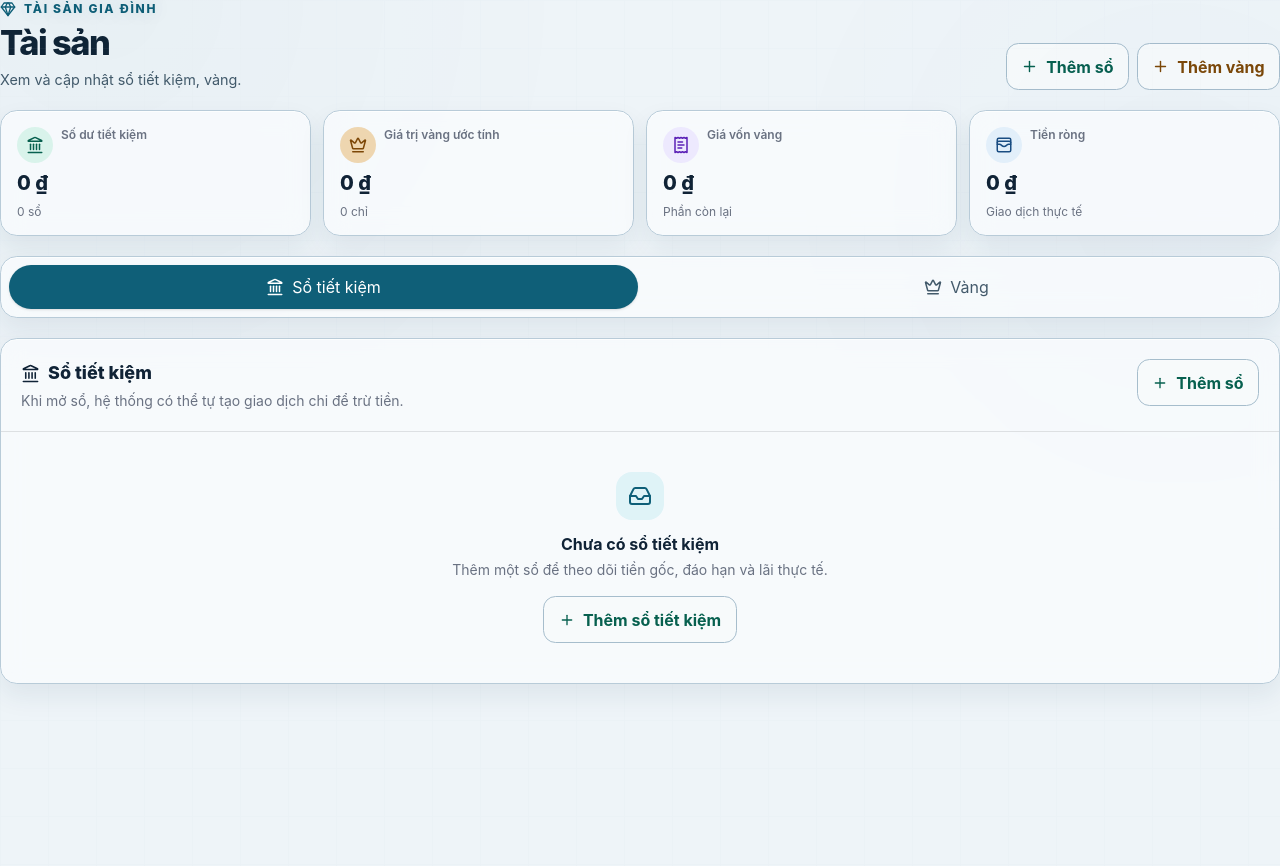
Scenario: Tài sản › cho phép nhập lãi suất thập phân trên bàn phím điện thoại
The image size is (1280, 866).
Click the button "Thêm sổ" in the row of "Xem và cập nhật sổ tiết kiệm, vàng.": click(1067, 67) [1006,44,1129,90]
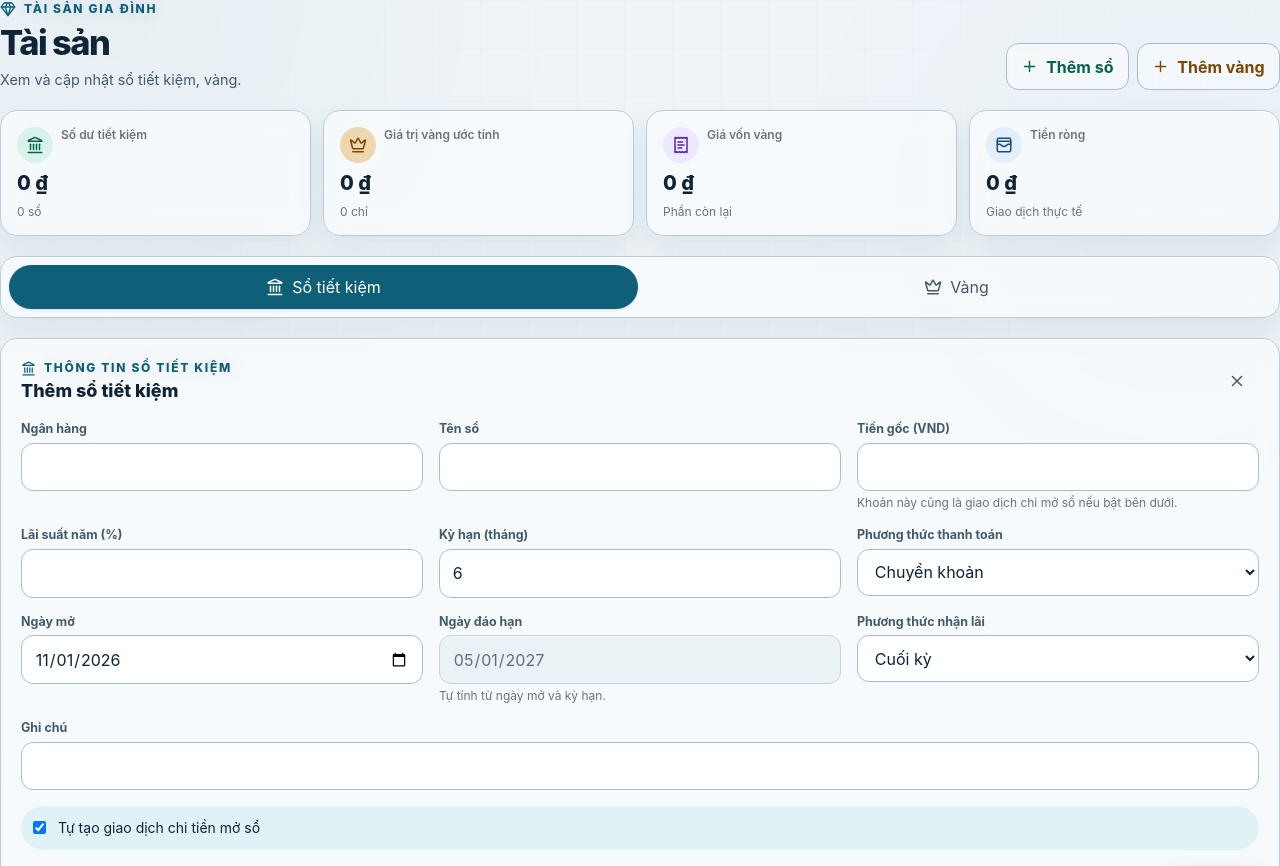
In the field labelled "Lãi suất năm (%)": (222, 573) [21,549,423,598], type "8,2"
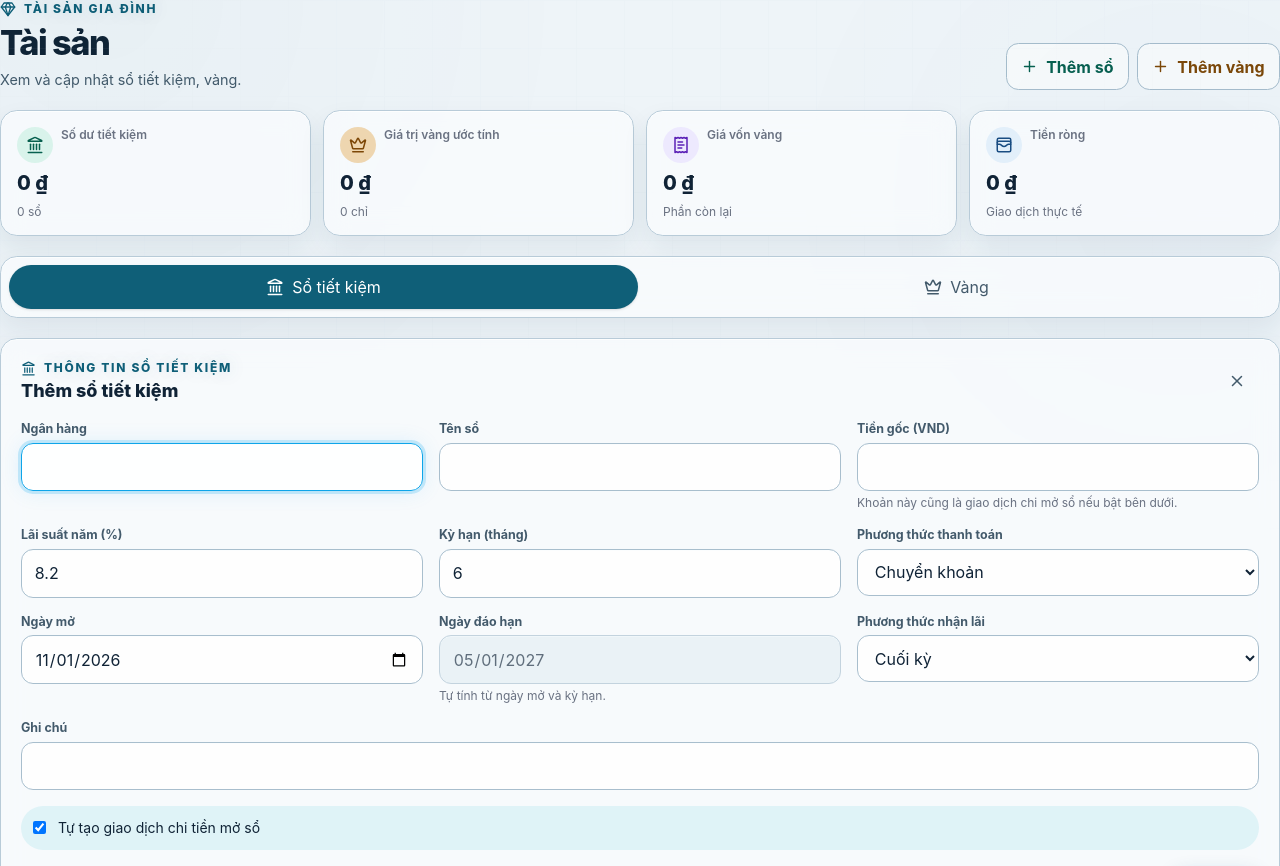
Expected: the field labelled "Lãi suất năm (%)" holds "8.2", [21,549,423,598]
